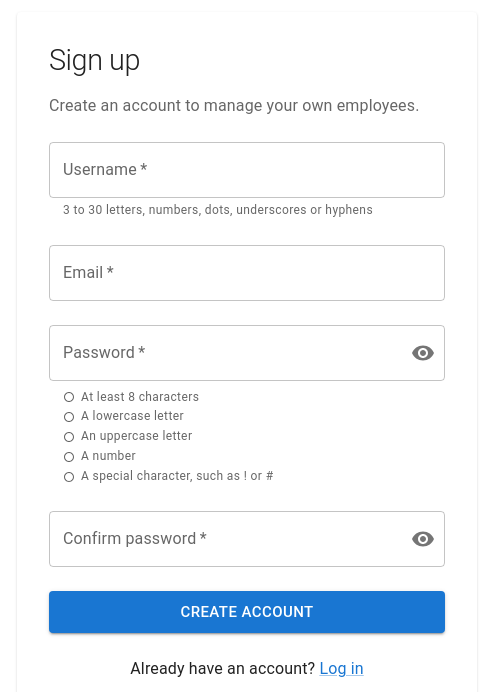
Test: SignupPage: the form › ticks off the password requirements while typing
Check: the list item "At least 8 characters (not met yet)" is shown, box x1=63 y1=390 x2=199 y2=404
Type "Str0ng!Pass" into the password field labelled "Password *" at {"x": 222, "y": 352}, box x1=49 y1=324 x2=395 y2=380
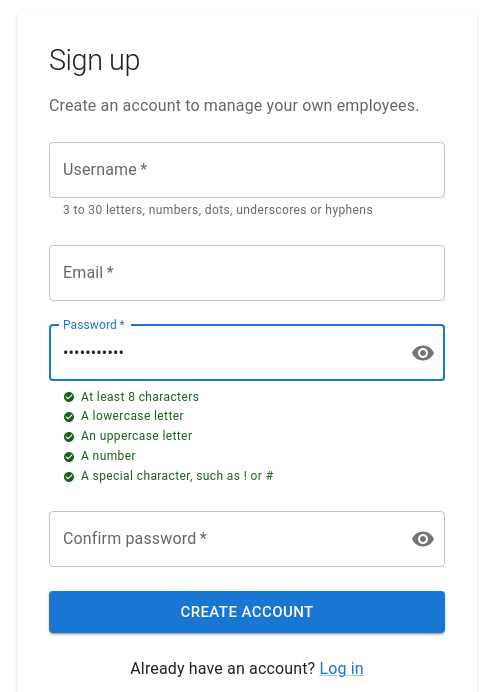
Check: the list item "At least 8 characters (met)" is shown, box x1=63 y1=390 x2=199 y2=404
Check: the text "not met yet" is gone
